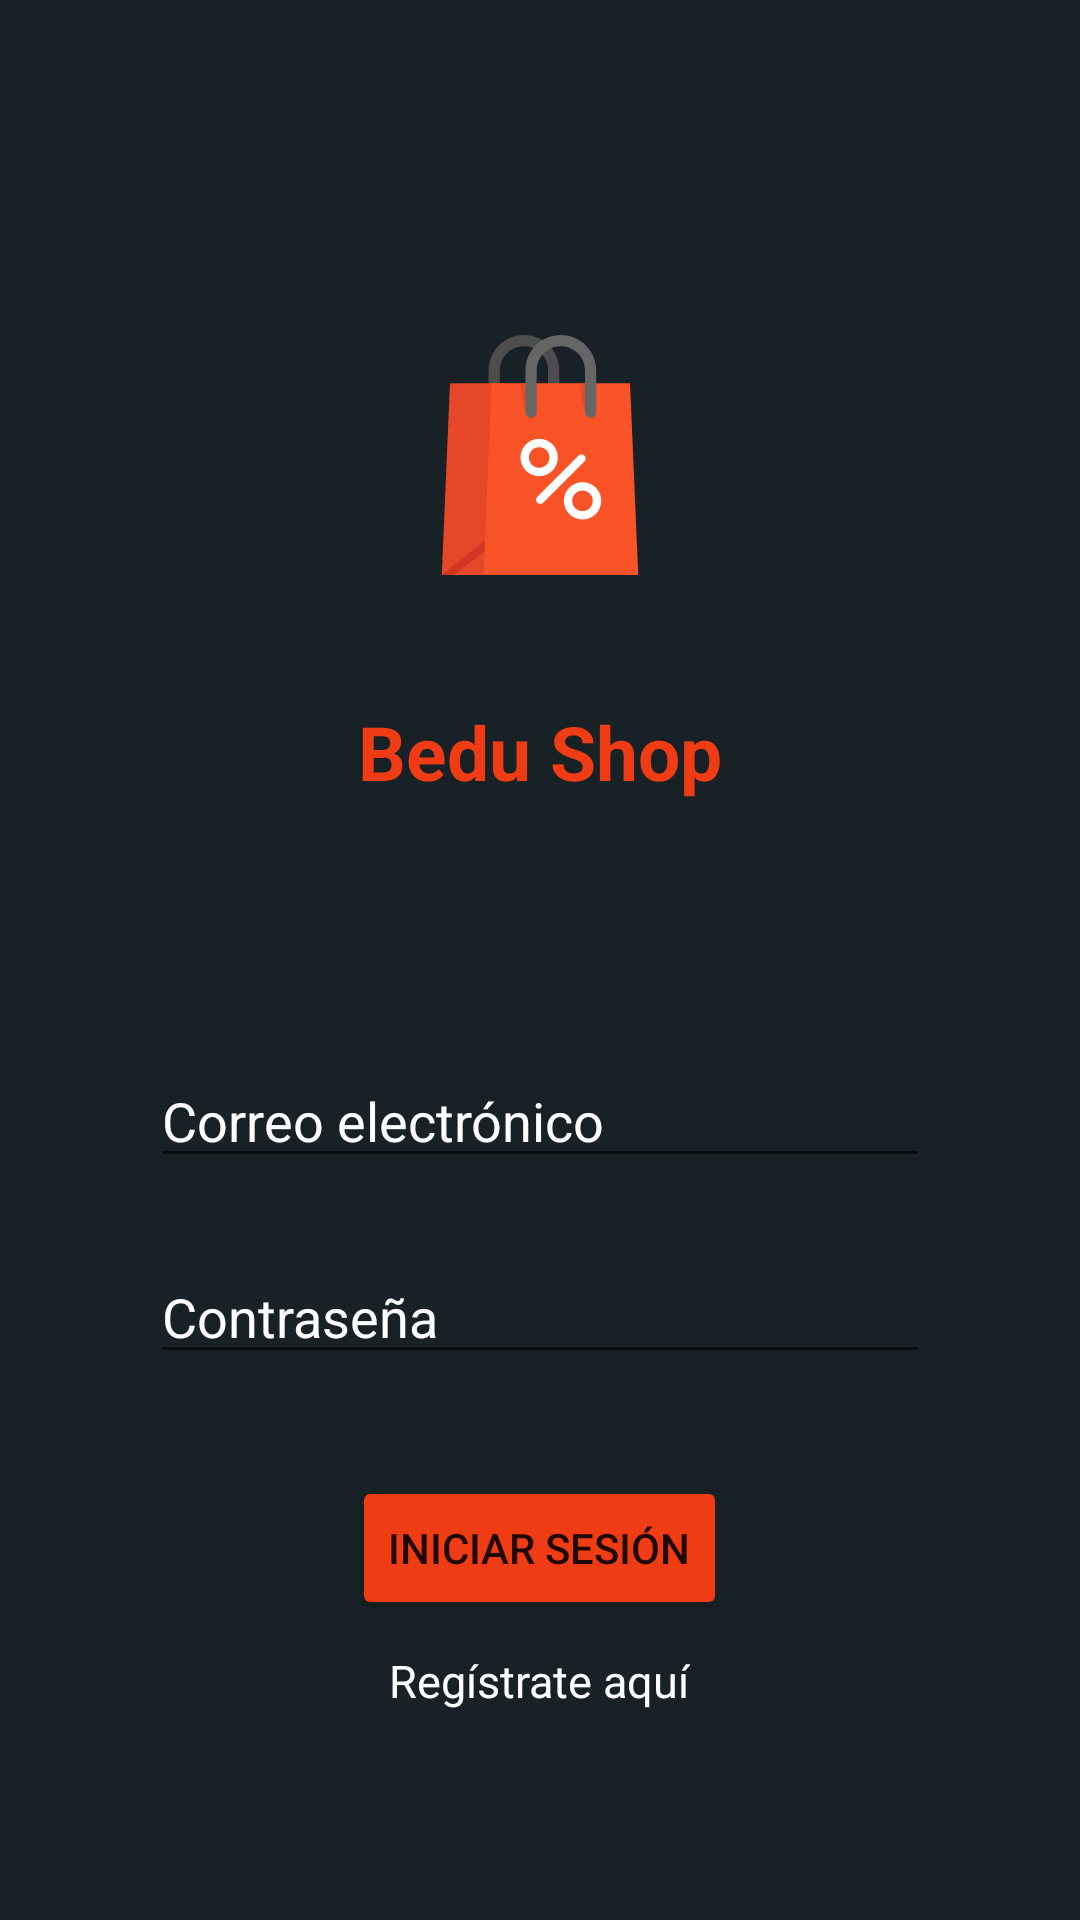

Named icons in this screenshot (1080x1920) and their centers, (x=x, y=y):
shopping bag: (x=540, y=455)
